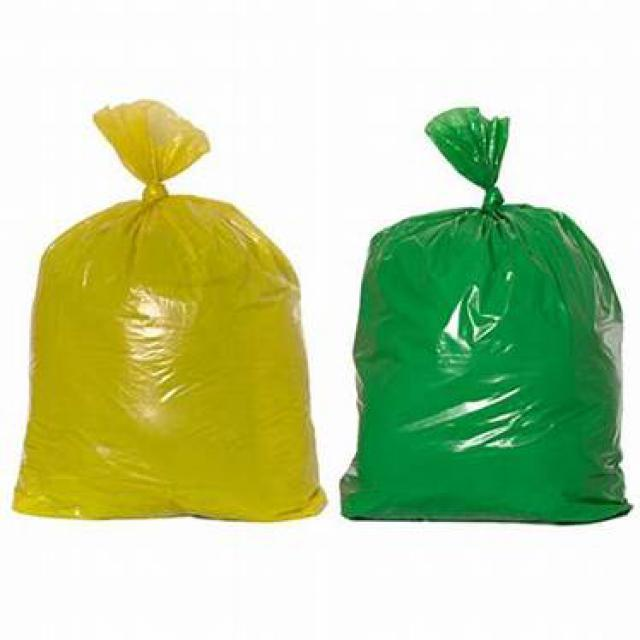waste: (12, 94, 320, 532), (338, 91, 634, 528)
